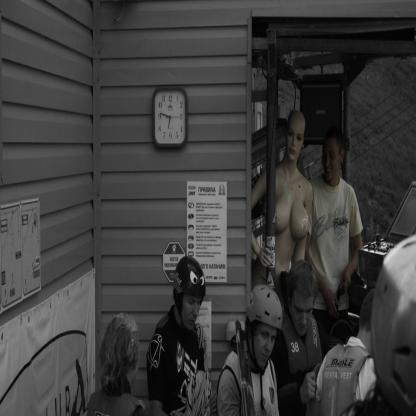Helmet: (366, 230, 416, 415), (243, 281, 283, 386), (173, 254, 207, 336)
